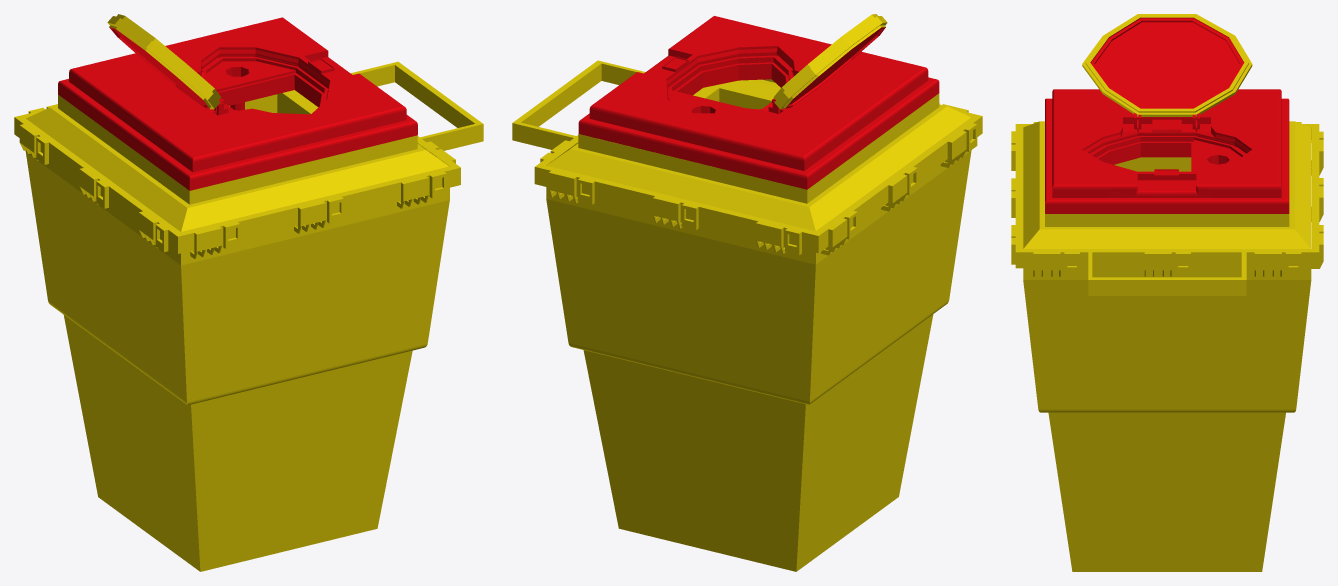
Rendered from Boite-Dasri-Projet-Doceo.fbx.
The picture shows the model from 3 angles, left to right: view 1: azimuth 30°, elevation 25°; view 2: azimuth 150°, elevation 25°; view 3: azimuth 270°, elevation 25°; orthographic projection. The views are drawn at different scales.
Parts seen in each view (by area): view 1: Boitier-DASRI; view 2: Boitier-DASRI; view 3: Boitier-DASRI.
Part boxes in pixels (x1,y1,x2,y2): Boitier-DASRI: (14, 14, 483, 571); Boitier-DASRI: (512, 14, 982, 571); Boitier-DASRI: (1011, 14, 1323, 571).
Bounding box in the file's own units: 29.56 × 41.25 × 24.71.
